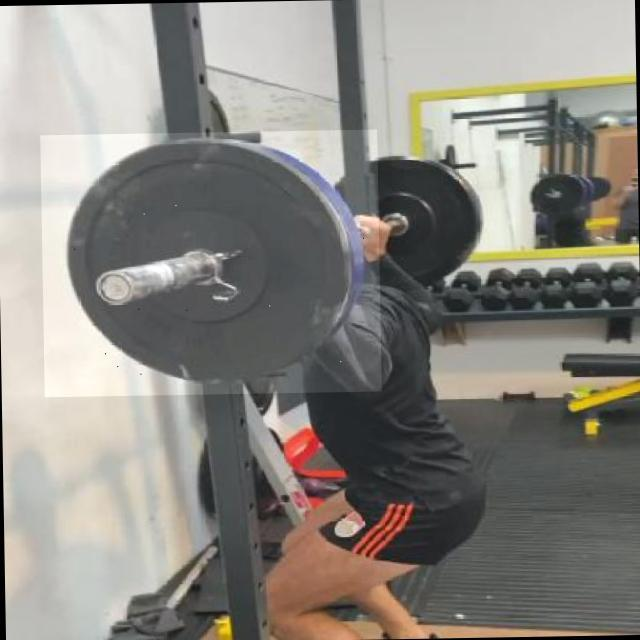barbell: (41, 130, 383, 398)
